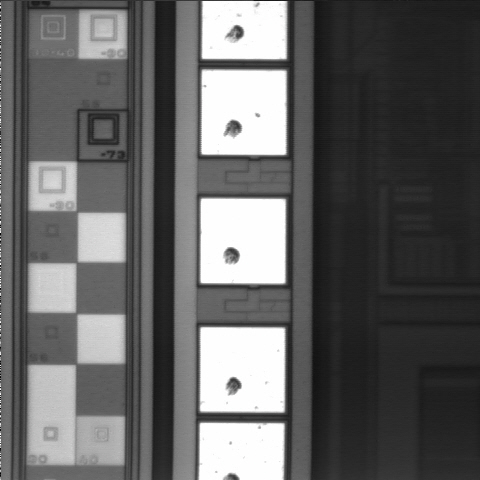pad: (201, 70, 286, 155), (201, 199, 286, 284), (200, 327, 285, 412)
